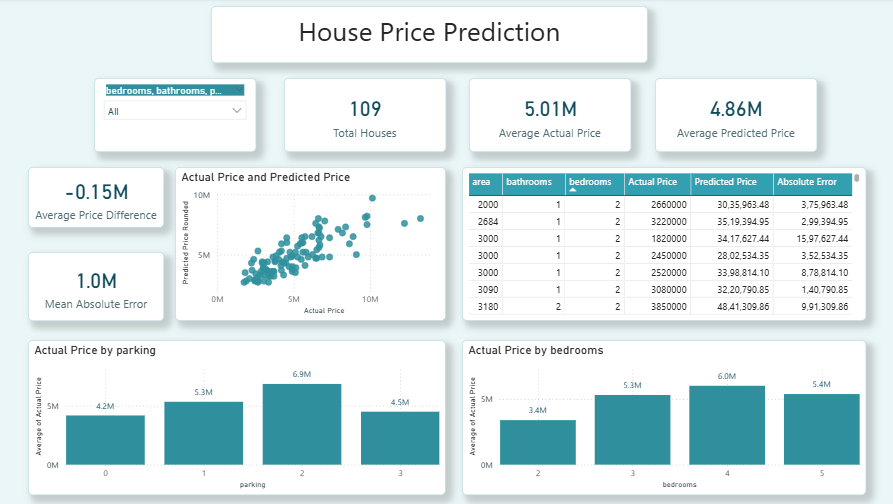

The page's visual inventory and layout, read from the dashboard file:
{"tool":"powerbi","page":{"name":"Page 1","canvas":[1280,720],"ordinal":0},"visuals":[{"type":"card","fields":{"Values":["predicted_housing.Total Houses"]},"box":[411,113.4,229.6,104.9],"z":0},{"type":"card","fields":{"Values":["predicted_housing.Average Actual Price"]},"box":[673.2,113.4,229.6,104.9],"z":1000},{"type":"card","fields":{"Values":["predicted_housing.Average Predicted Price"]},"box":[936.9,113.4,229.6,104.9],"z":2000},{"type":"card","fields":{"Values":["predicted_housing.Average Price Difference"]},"box":[48.2,239.5,192.8,86.5],"z":3000},{"type":"card","fields":{"Values":["predicted_housing.Mean Absolute Error"]},"box":[48.2,360,192.8,97.8],"z":4000},{"type":"scatterChart","title":"Actual Price and Predicted Price","fields":{"Y":["predicted_housing.Predicted Price Rounded"],"X":["predicted_housing.Actual Price"]},"box":[256.5,239.5,384.1,218.3],"z":5000},{"type":"slicer","fields":{"Values":["predicted_housing.bedrooms","predicted_housing.bathrooms","predicted_housing.parking"]},"box":[141.7,113.4,229.6,104.9],"z":6000},{"type":"clusteredColumnChart","title":" Actual Price by parking","fields":{"Y":["Avg(predicted_housing.Actual Price)"],"Category":["predicted_housing.parking"]},"box":[48.2,484.7,592.4,219.7],"z":7000},{"type":"clusteredColumnChart","title":"Actual Price by bedrooms","fields":{"Y":["Avg(predicted_housing.Actual Price)"],"Category":["predicted_housing.bedrooms"]},"box":[663.3,484.7,572.6,219.7],"z":8000},{"type":"textbox","box":[308.2,11.5,619.2,80.6],"z":9000},{"type":"tableEx","fields":{"Values":["predicted_housing.area","predicted_housing.bathrooms","predicted_housing.bedrooms","predicted_housing.Actual Price","predicted_housing.Predicted Price","predicted_housing.Absolute Error"]},"box":[663.3,239.5,572.6,218.3],"z":10000}]}

Visuals, with their boxes in screenshot pixels (x1, y1, x2, y2), scaled from the page's 1280x720 canvas onto the 893x504 screenshot:
card - predicted_housing.Total Houses: x1=287, y1=79, x2=447, y2=153
card - predicted_housing.Average Actual Price: x1=470, y1=79, x2=630, y2=153
card - predicted_housing.Average Predicted Price: x1=654, y1=79, x2=814, y2=153
card - predicted_housing.Average Price Difference: x1=34, y1=168, x2=168, y2=228
card - predicted_housing.Mean Absolute Error: x1=34, y1=252, x2=168, y2=320
"Actual Price and Predicted Price" scatterChart: x1=179, y1=168, x2=447, y2=320
slicer - predicted_housing.bedrooms x predicted_housing.bathrooms: x1=99, y1=79, x2=259, y2=153
" Actual Price by parking" clusteredColumnChart: x1=34, y1=339, x2=447, y2=493
"Actual Price by bedrooms" clusteredColumnChart: x1=463, y1=339, x2=862, y2=493
textbox: x1=215, y1=8, x2=647, y2=64
tableEx - predicted_housing.area x predicted_housing.bathrooms: x1=463, y1=168, x2=862, y2=320
